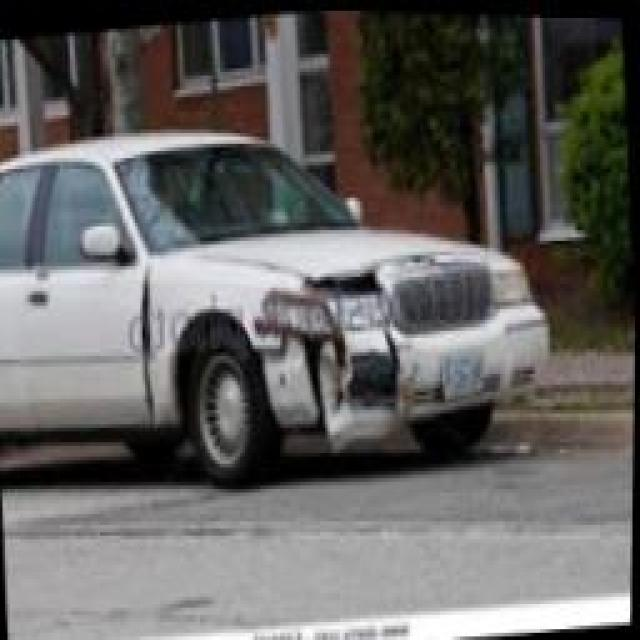replaceable: (280, 338, 420, 446), (258, 268, 398, 324)
